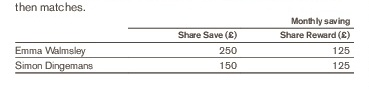table: (0, 0, 369, 89)
